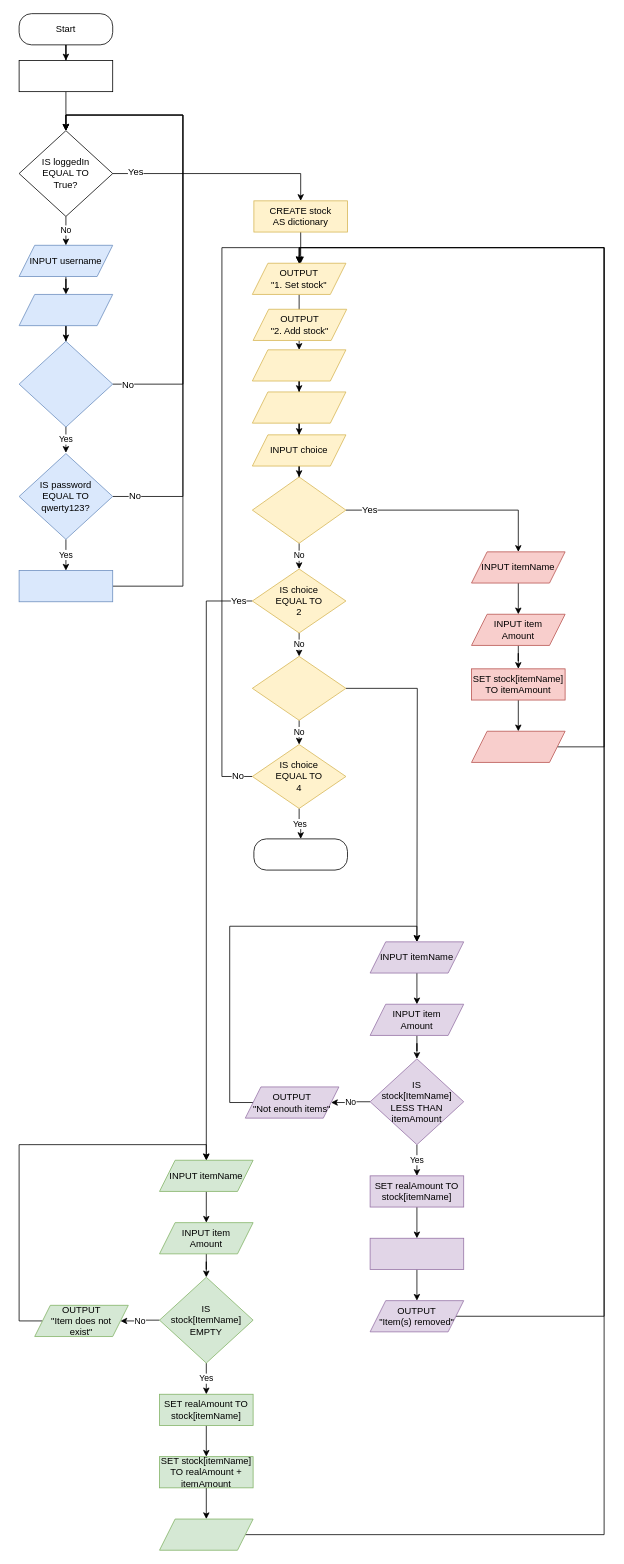
Image size: 624x1564. Some labels were removed from this diagram. Each missing label, with the centre of its shape:
End: [300,854]
INPUT password: [65,310]
IS choice EQUAL TO 1: [299,509]
IS choice EQUAL TO 3: [299,688]
IS username EQUAL TO bob?: [65,383]
OUTPUT "3. Remove stock": [299,365]
OUTPUT "4. Exit": [299,407]
OUTPUT "Item Added": [518,746]
OUTPUT "Item(s) Added": [206,1534]
SET loggedIn TO False: [65,76]
SET loggedIn TO True: [65,586]
SET stock[itemName] TO realAmount - itemAmount: [416,1253]
